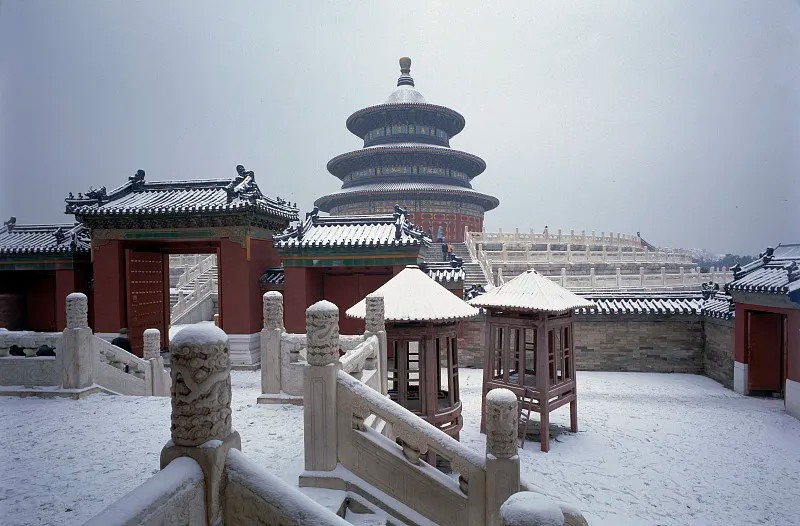Heaven: (313, 57, 501, 242)
